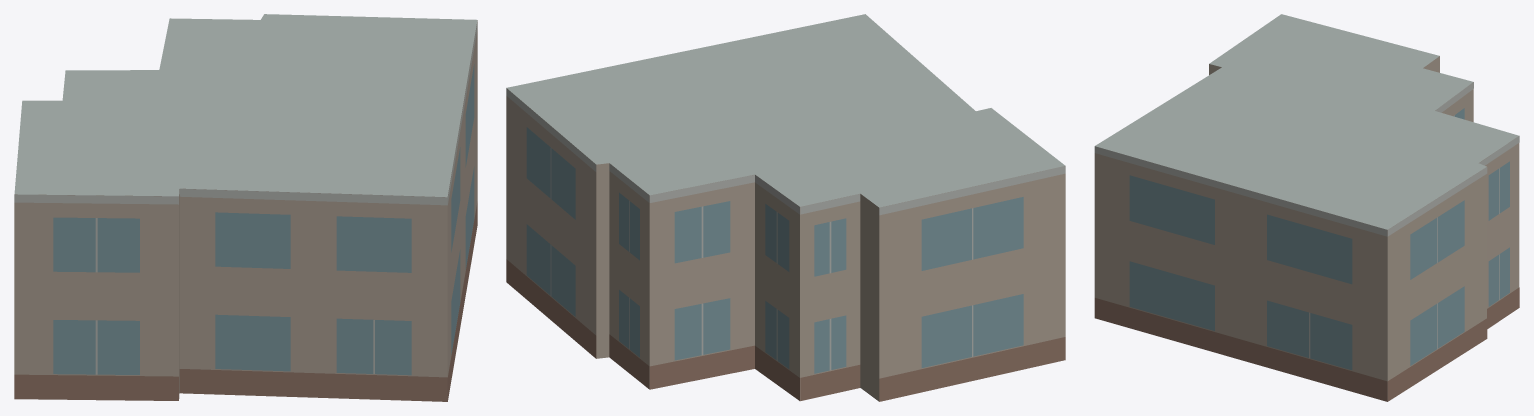
The model's file is survey-upis-32943736.glb.
3 views of the same model, side by side, from view 1: azimuth 30°, elevation 25°; view 2: azimuth 150°, elevation 25°; view 3: azimuth 270°, elevation 25° (orthographic). The views are drawn at different scales.
Parts seen in each view (by area): view 1: survey-upis-32943736.tmp; view 2: survey-upis-32943736.tmp; view 3: survey-upis-32943736.tmp.
Boxes of the visible parts, box(x1,y1,x2,y2) form: survey-upis-32943736.tmp: box(14, 14, 477, 401); survey-upis-32943736.tmp: box(506, 14, 1065, 401); survey-upis-32943736.tmp: box(1094, 14, 1519, 401).
Size of the model in its own units: 16.42 by 6.1 by 13.66.
